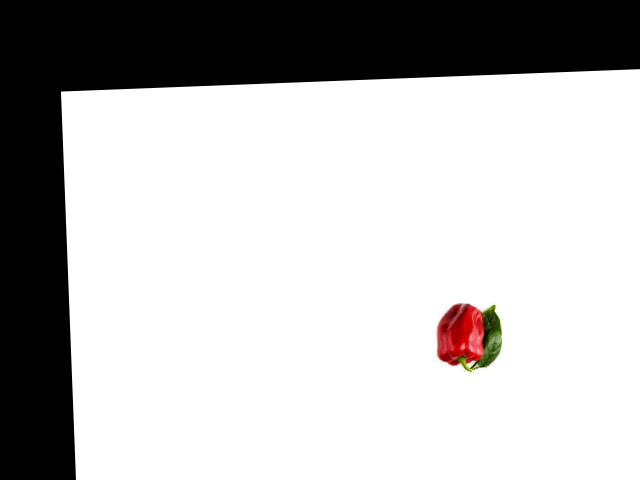bell_pepper: (429, 300, 489, 372)
